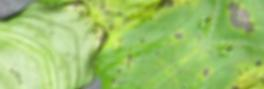Tomato leaf bacterial spot: (35, 0, 264, 89)
